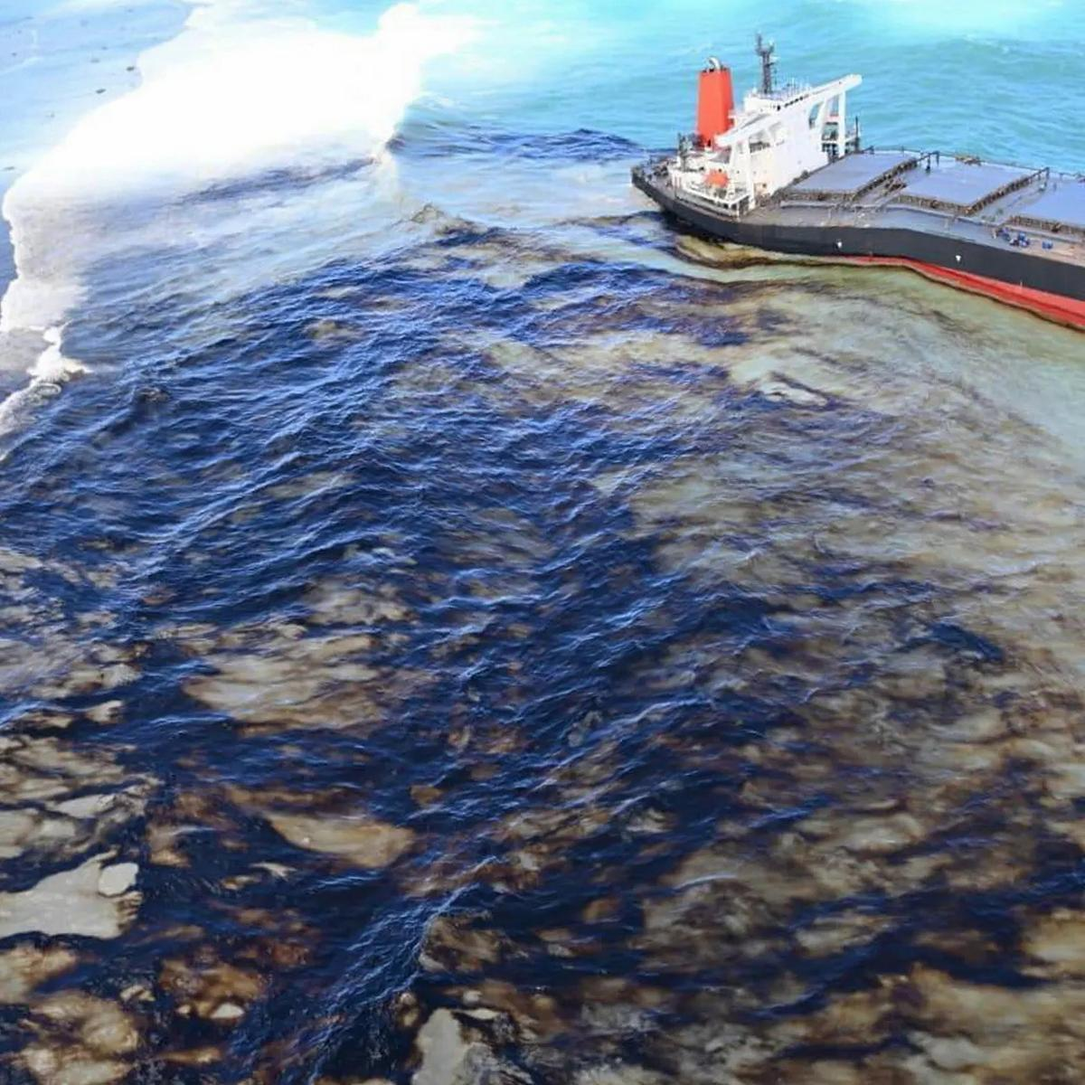Oil Pollution: (1, 206, 643, 1080)
